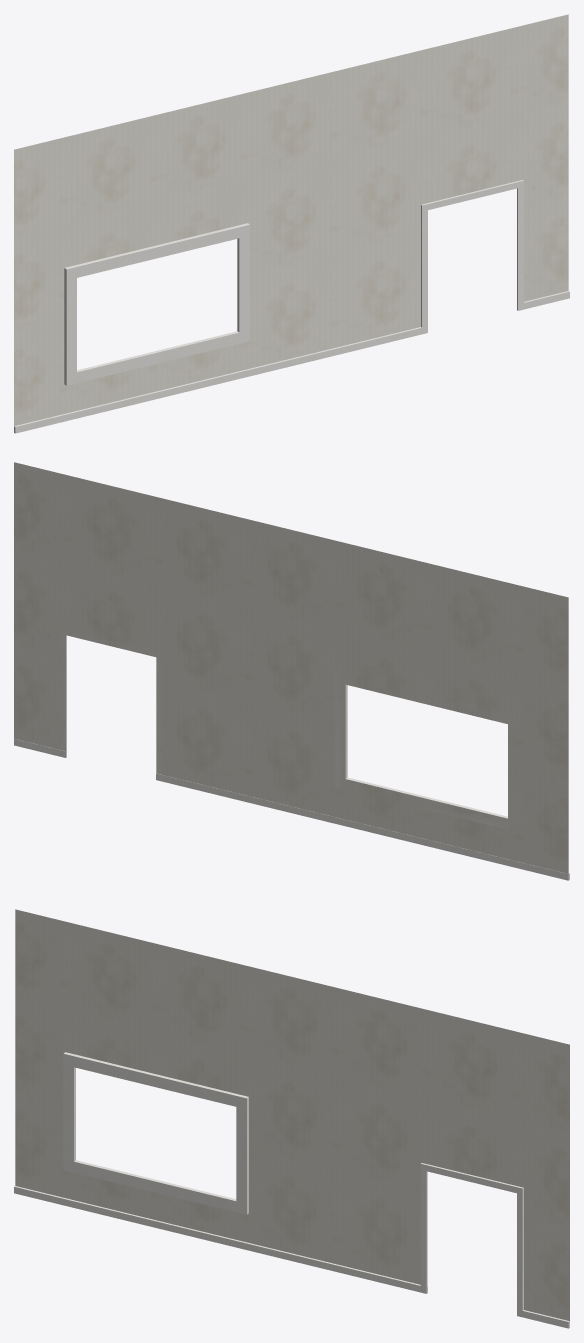
The model's file is wm_12_e4f7caf7.gltf.
3 renders of one model, top to bottom at view 1: azimuth 30°, elevation 25°; view 2: azimuth 150°, elevation 25°; view 3: azimuth 330°, elevation 25°, orthographic.
Visible parts, largest first — view 1: jx_wm_12_e4f7caf7; view 2: jx_wm_12_e4f7caf7; view 3: jx_wm_12_e4f7caf7.
Part boxes in pixels (x1,y1,x2,y2): jx_wm_12_e4f7caf7: (14, 14, 569, 433); jx_wm_12_e4f7caf7: (14, 462, 569, 880); jx_wm_12_e4f7caf7: (14, 909, 569, 1328).
Bounding box in the file's own units: 12.3 × 6 × 0.086.
Materials: 2 (2 with a texture image).
